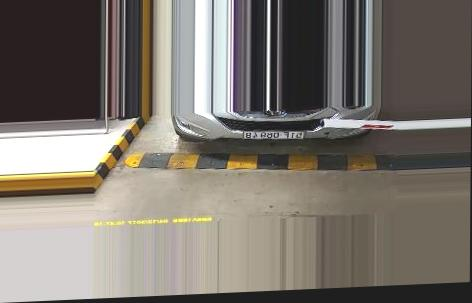License_Plate: (242, 128, 305, 141)
